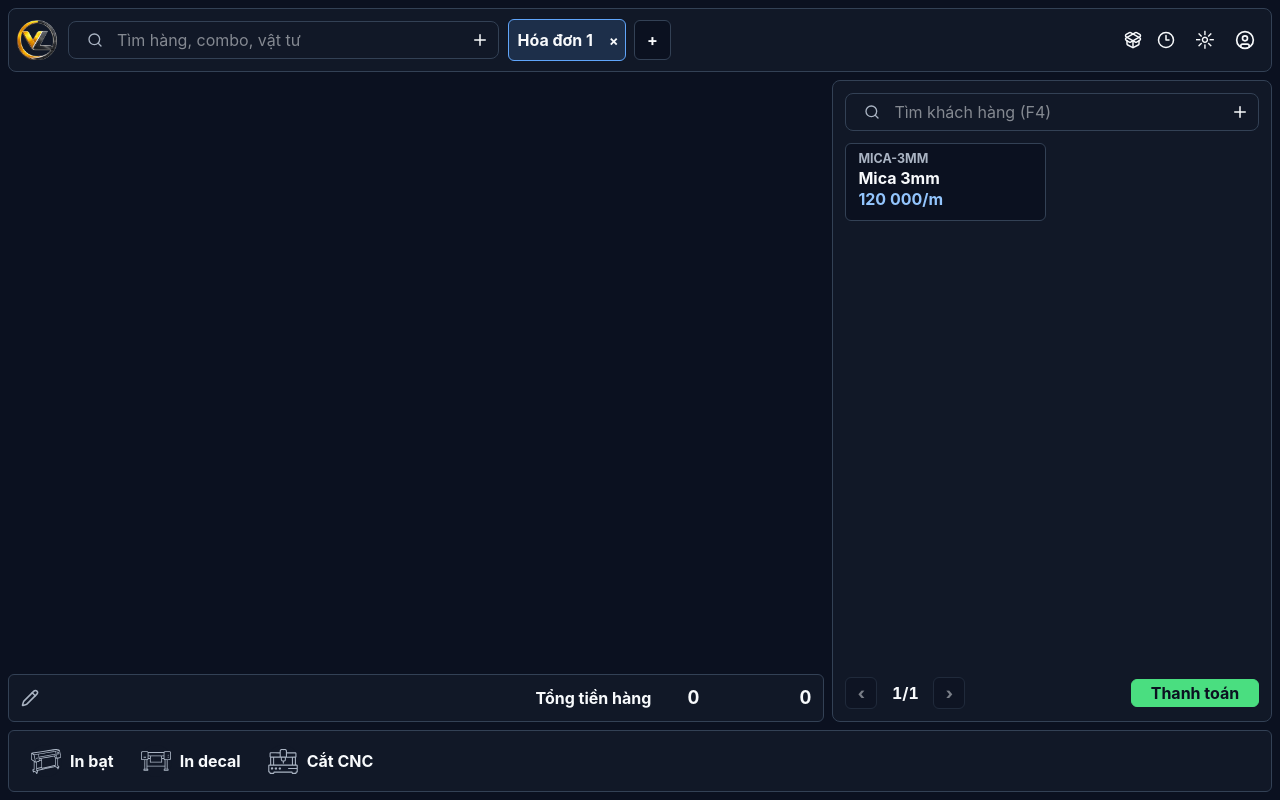
closes the checkout drawer when clicking outside it
Click the button "Thanh toán" at (1195, 693), box [1131,679,1259,707]
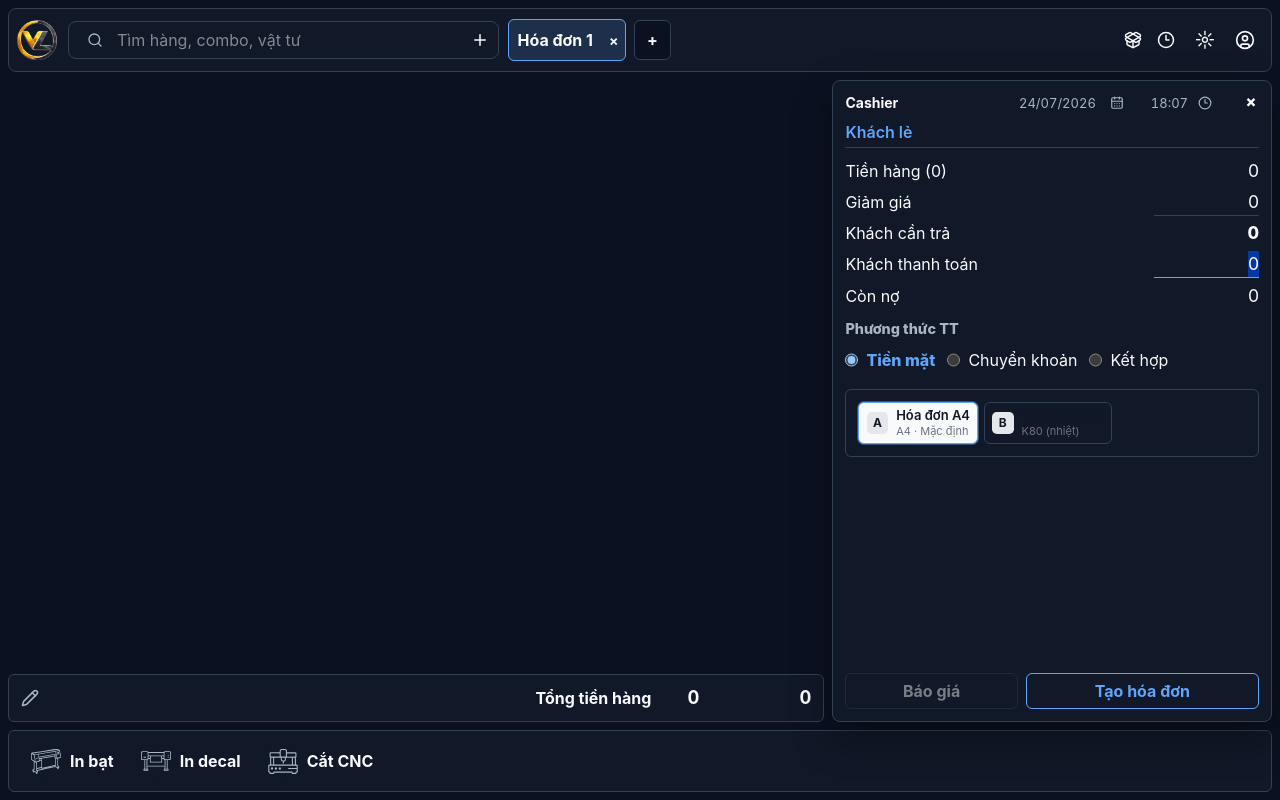
Click the element named "K02 giỏ hàng" at (416, 698), box [8,674,824,722]
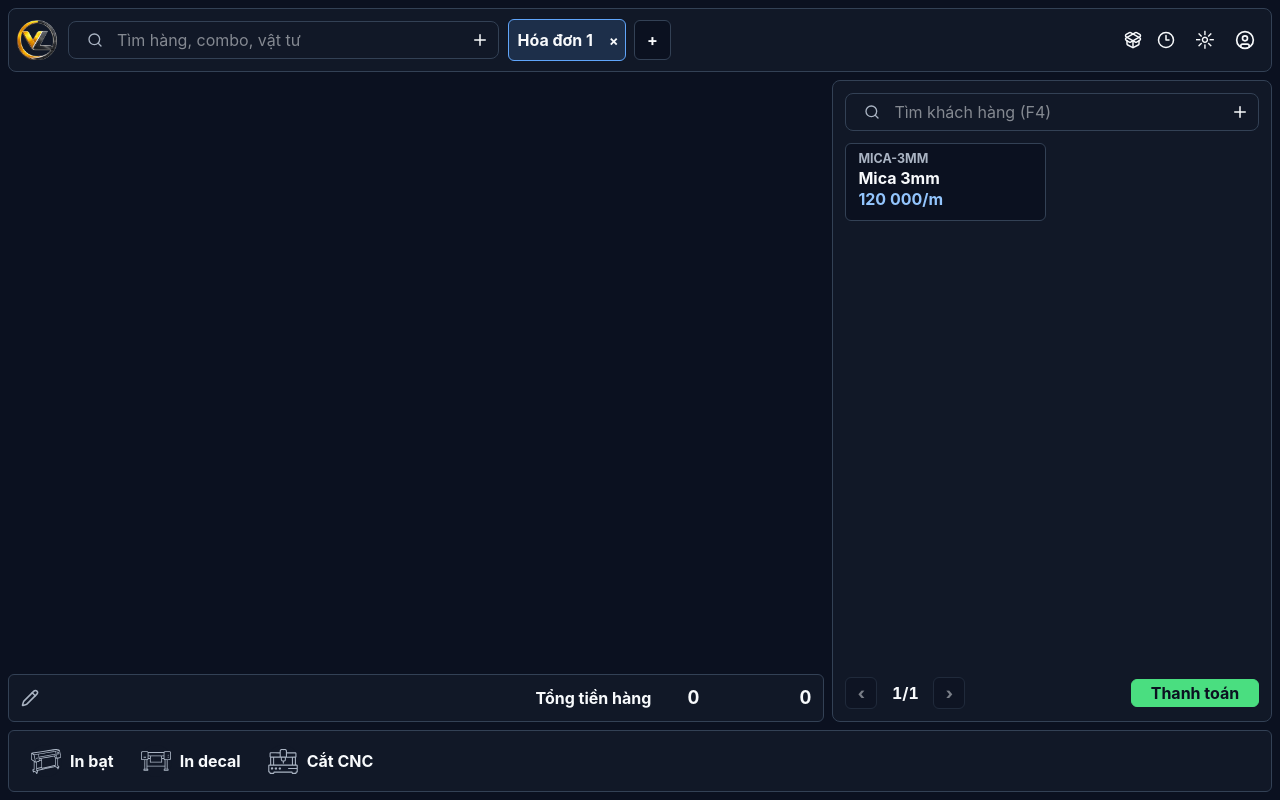
Expected: the element named "K03 sản phẩm" is shown, [832,80,1272,722]
